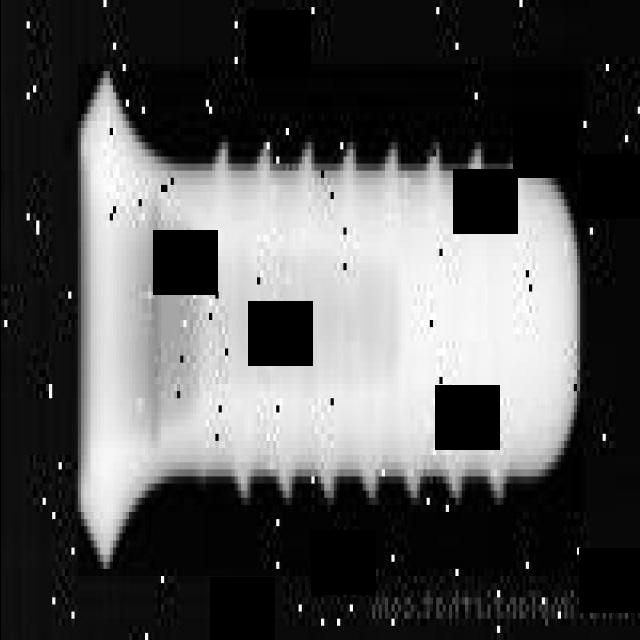Root canal filling: (77, 64, 582, 576)
